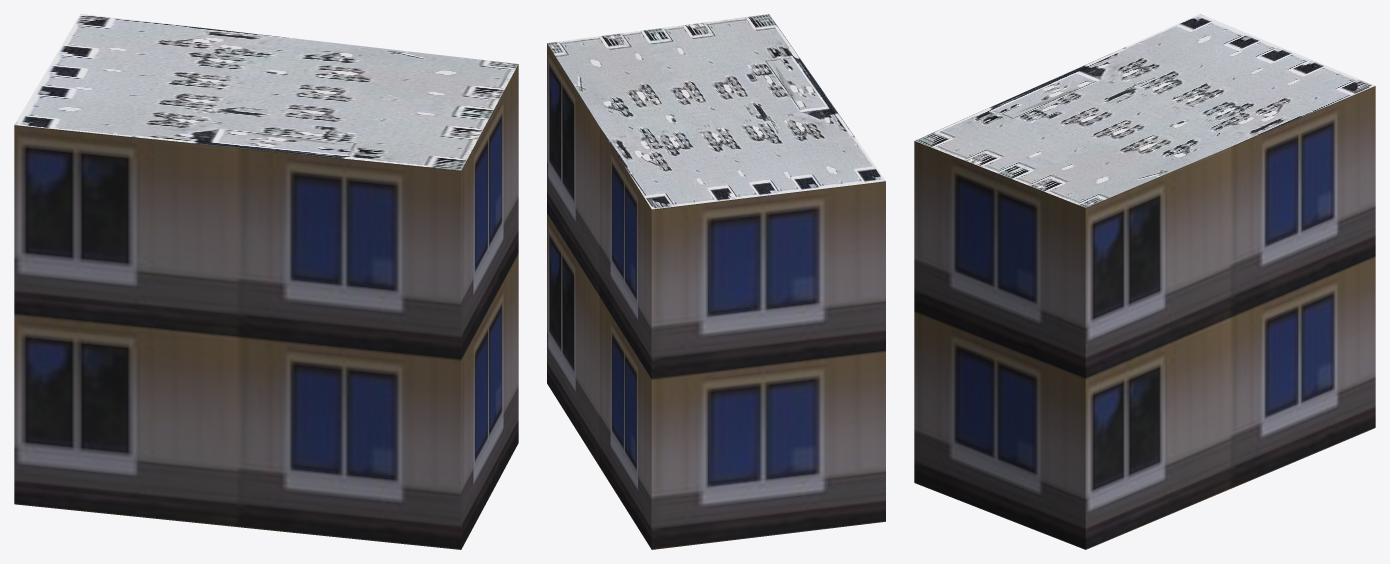
The model's file is ResTex__1683.fbx.
3 renders of one model, left to right at view 1: azimuth 30°, elevation 25°; view 2: azimuth 150°, elevation 25°; view 3: azimuth 270°, elevation 25°, orthographic. The views are drawn at different scales.
Parts seen in each view (by area): view 1: CityEngineMaterial_5_m, CityEngineMaterial_m; view 2: CityEngineMaterial_5_m, CityEngineMaterial_m; view 3: CityEngineMaterial_5_m, CityEngineMaterial_m.
Boxes of the visible parts, <box> form: CityEngineMaterial_5_m: <box>14,64,518,549</box>; CityEngineMaterial_m: <box>14,14,518,170</box>; CityEngineMaterial_5_m: <box>547,43,885,549</box>; CityEngineMaterial_m: <box>547,14,885,209</box>; CityEngineMaterial_5_m: <box>914,86,1375,549</box>; CityEngineMaterial_m: <box>915,14,1374,207</box>.
Size of the model in its own units: 7.3 by 6 by 7.34.
Materials: 2 (2 with a texture image).
